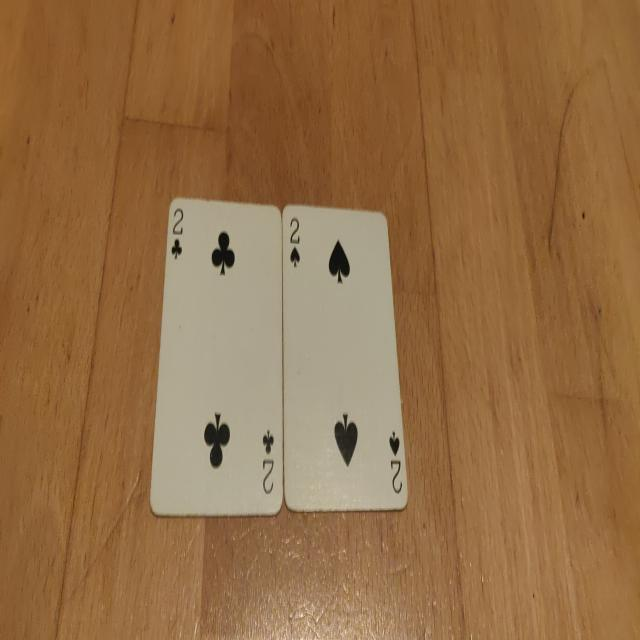Club: (204, 414, 230, 468), (212, 232, 234, 275), (263, 431, 274, 454), (172, 240, 182, 259)
Spade: (334, 414, 358, 466), (329, 240, 350, 284), (390, 432, 400, 457), (290, 248, 300, 268)
